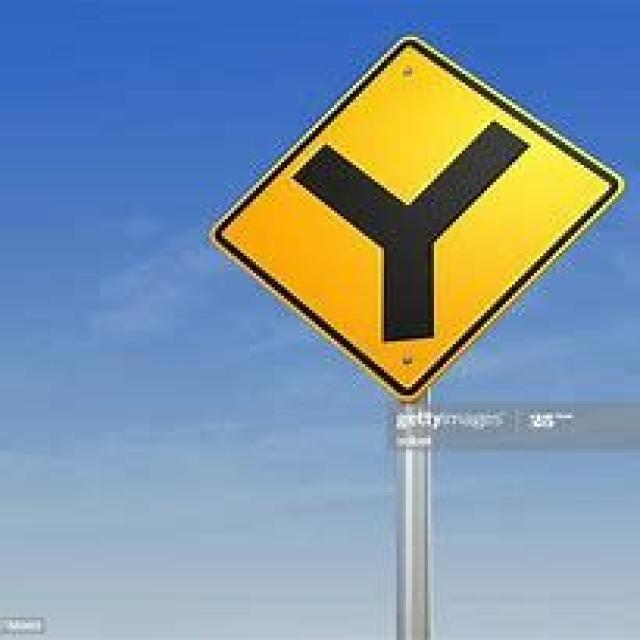y intersection: (216, 37, 613, 402)
